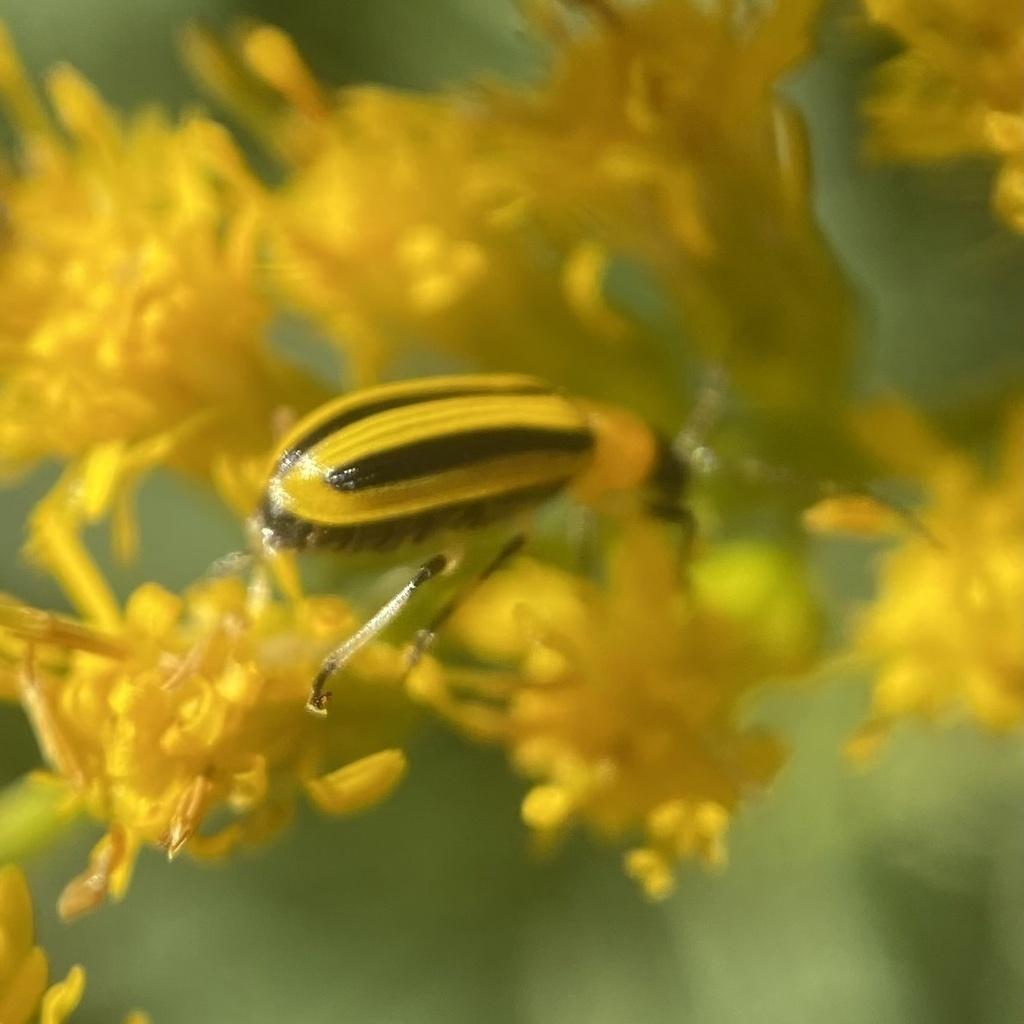potato_beetle: (187, 273, 930, 796)
